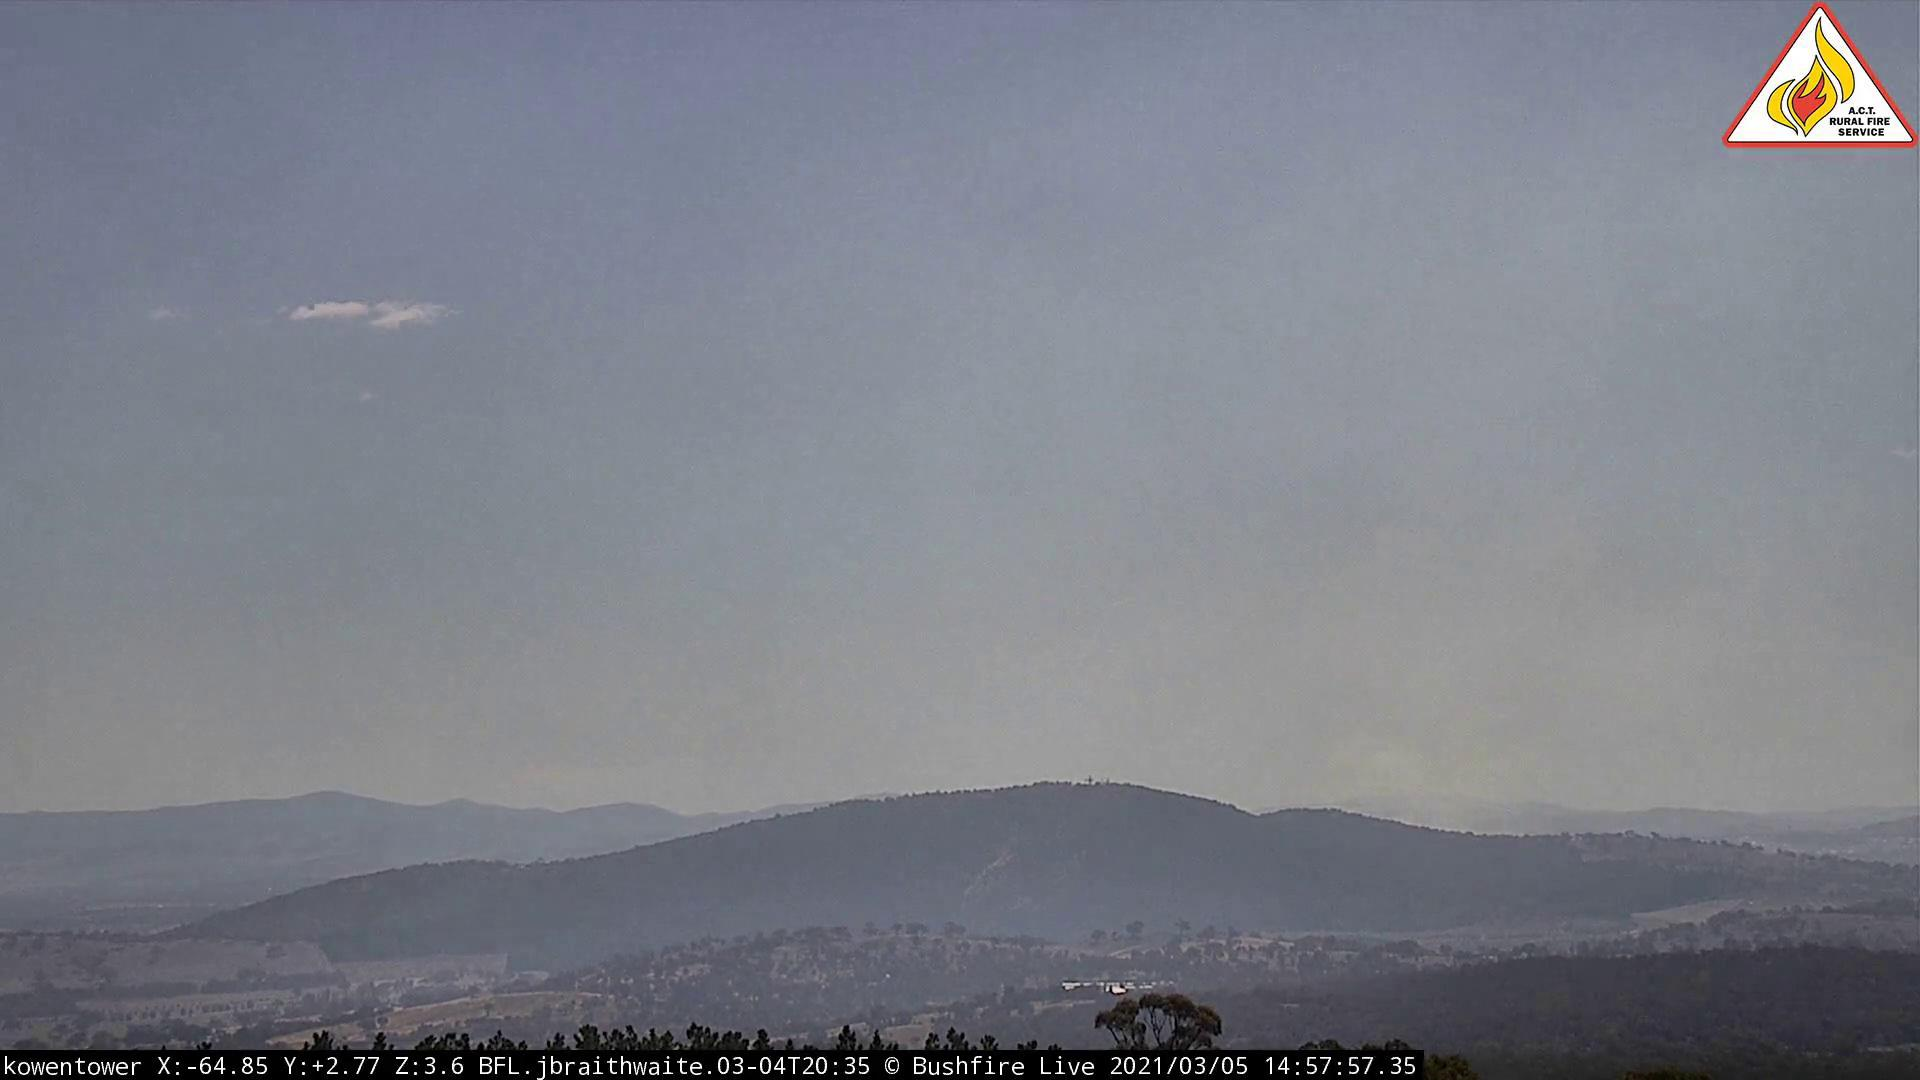Smoke: (1269, 493, 1832, 847)
